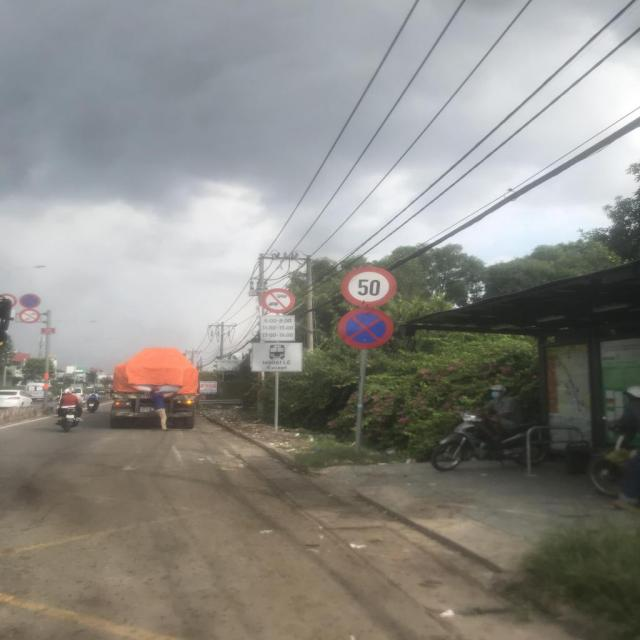cam_dung_xe_va_do_xe: (338, 308, 393, 350), (20, 294, 40, 308)
cam_o_to_tai_va_xe_khach: (261, 288, 295, 313)
cam_xe_2_banh_va_xe_3_banh_co_dong_co: (19, 308, 39, 324)
khac: (252, 342, 302, 372), (260, 316, 294, 342)
toc_do_toi_da_50: (340, 266, 396, 308)
